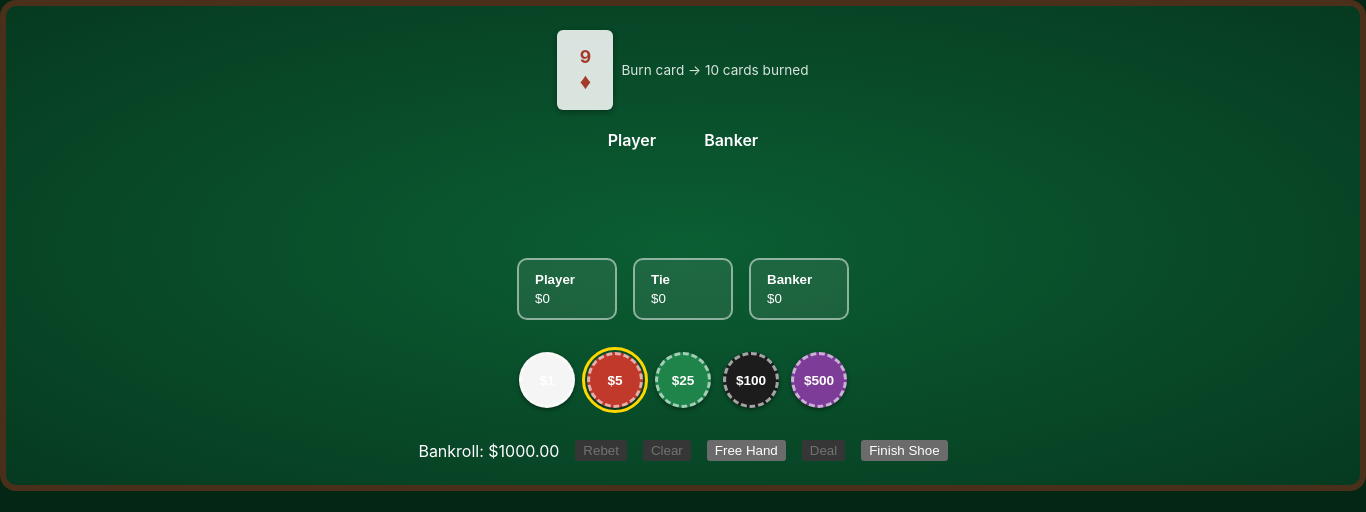
Test: Table › plays a Free Hand without wagering, refunding any placed bets
expect the text "Bankroll: $1000.00" is shown: met, box x1=418 y1=440 x2=559 y2=460
Click the button with test id "chip-25" at (683, 380), box x1=655 y1=352 x2=711 y2=408
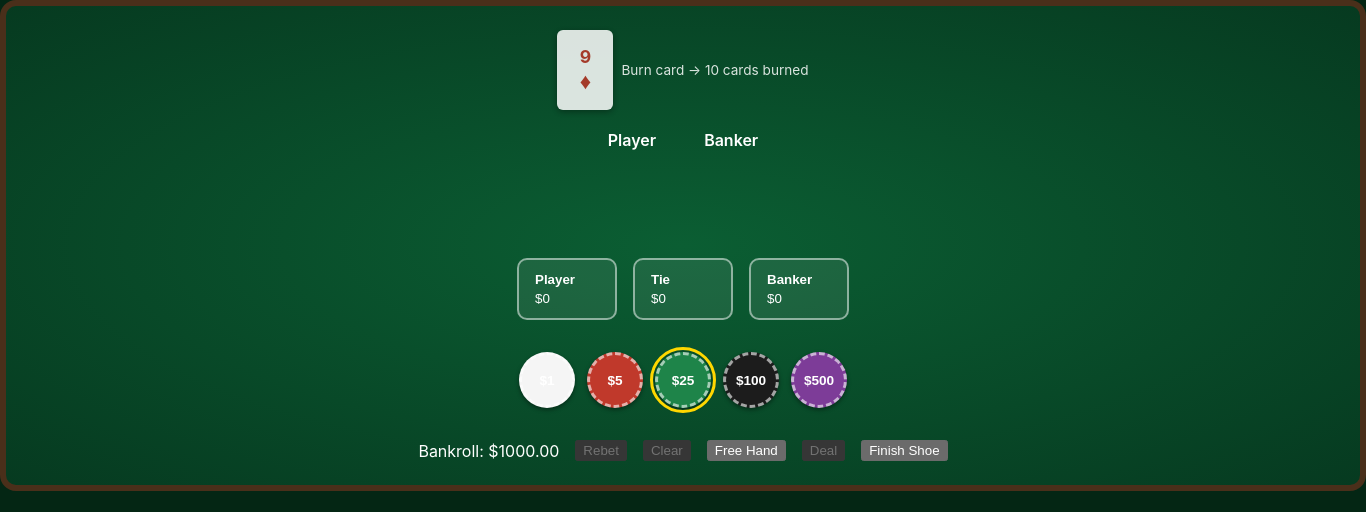
Click the button with test id "bet-spot-player" at (567, 289), box x1=517 y1=258 x2=617 y2=320
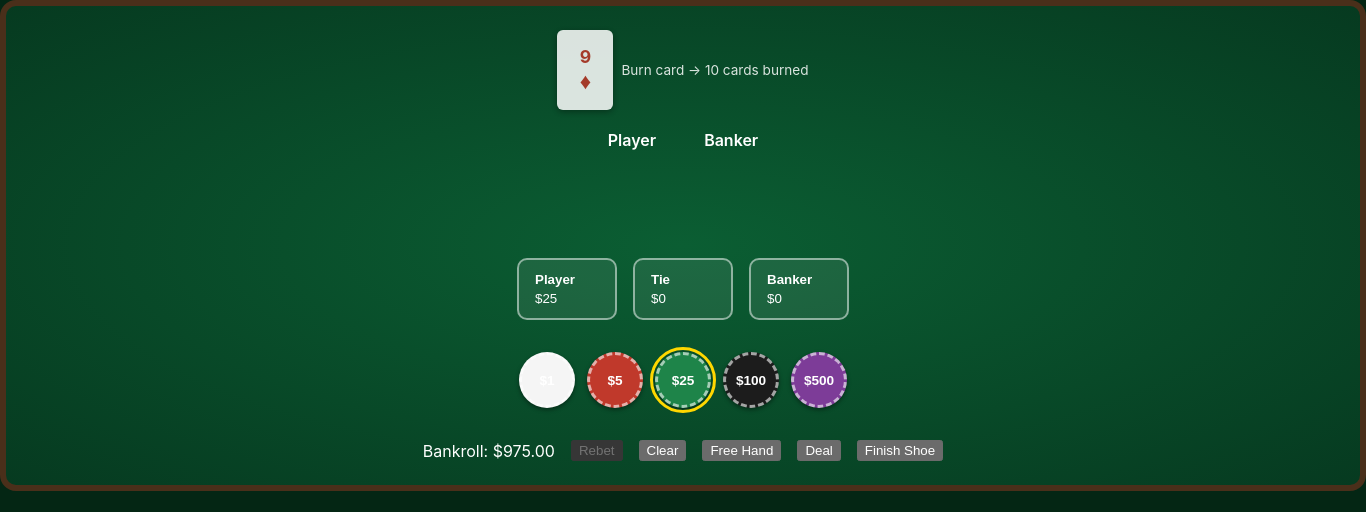
expect the text "Bankroll: $975.00" is shown: met, box x1=423 y1=440 x2=555 y2=460
Click the button "Free Hand" at (742, 450), box x1=702 y1=440 x2=781 y2=461
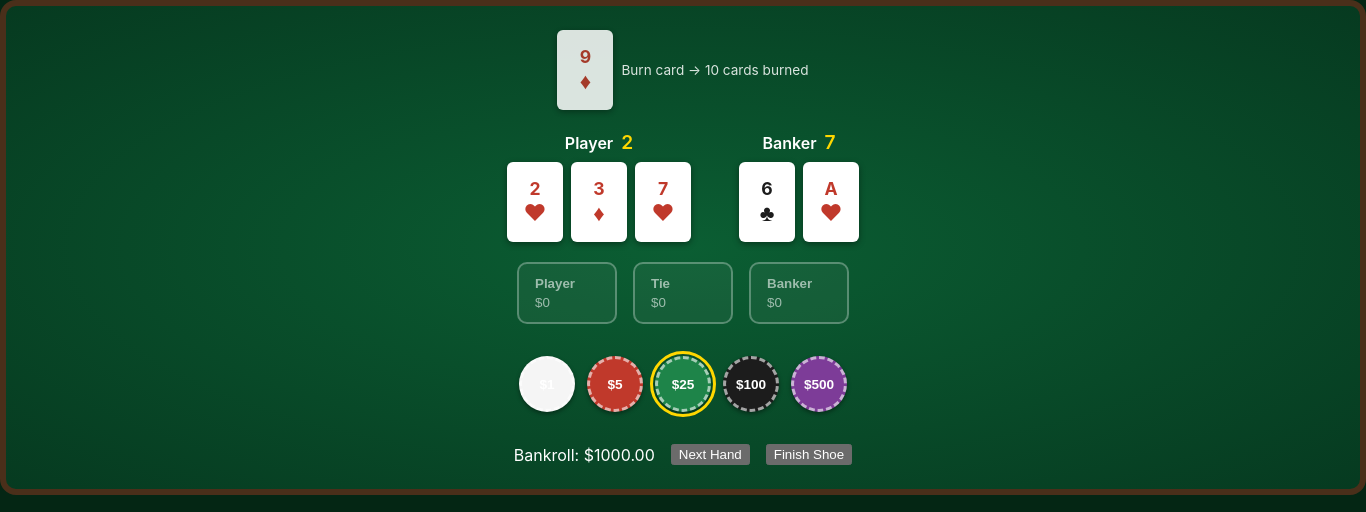
expect the text "Bankroll: $1000.00" is shown: met, box x1=514 y1=444 x2=655 y2=464
expect the button "Next Hand" is shown: met, box x1=671 y1=444 x2=750 y2=465
